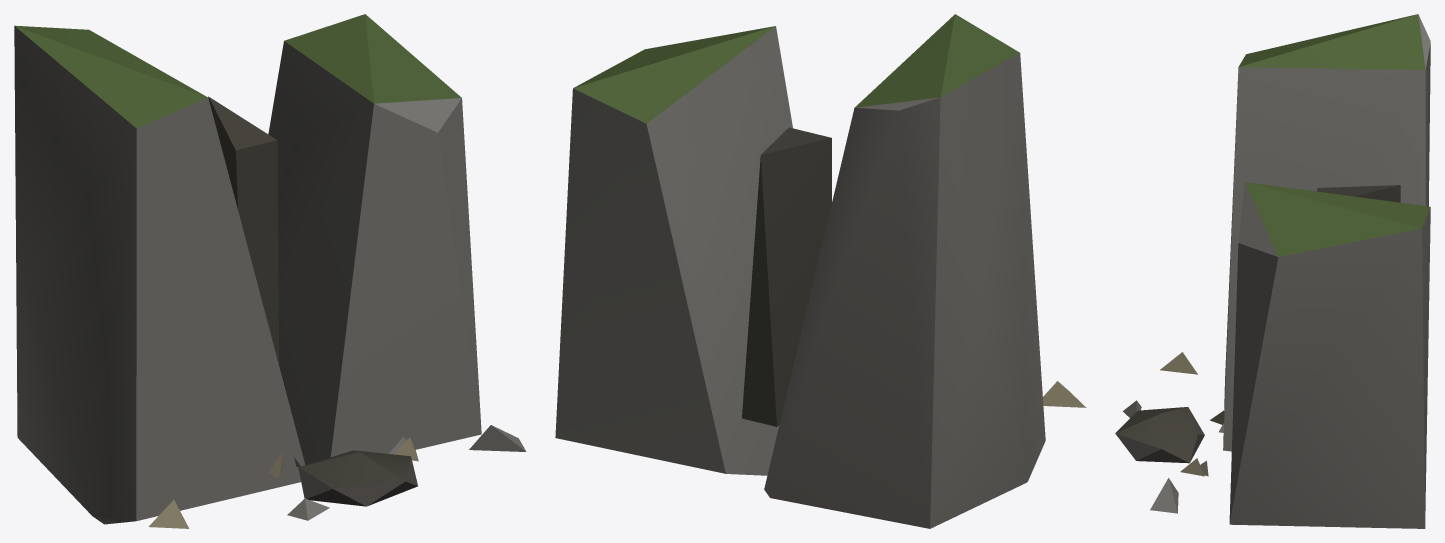
File: MiningCragBDug.fbx
The picture shows the model from 3 angles, left to right: view 1: azimuth 30°, elevation 25°; view 2: azimuth 150°, elevation 25°; view 3: azimuth 270°, elevation 25°; orthographic projection. The views are drawn at different scales.
Parts seen in each view (by area): view 1: MiningCragBDug; view 2: MiningCragBDug; view 3: MiningCragBDug.
Part boxes in pixels (x1,y1,x2,y2): MiningCragBDug: (14,14,526,528); MiningCragBDug: (555,14,1086,528); MiningCragBDug: (1115,14,1430,528).
Size of the model in its own units: 1.5 by 1.65 by 1.21.
